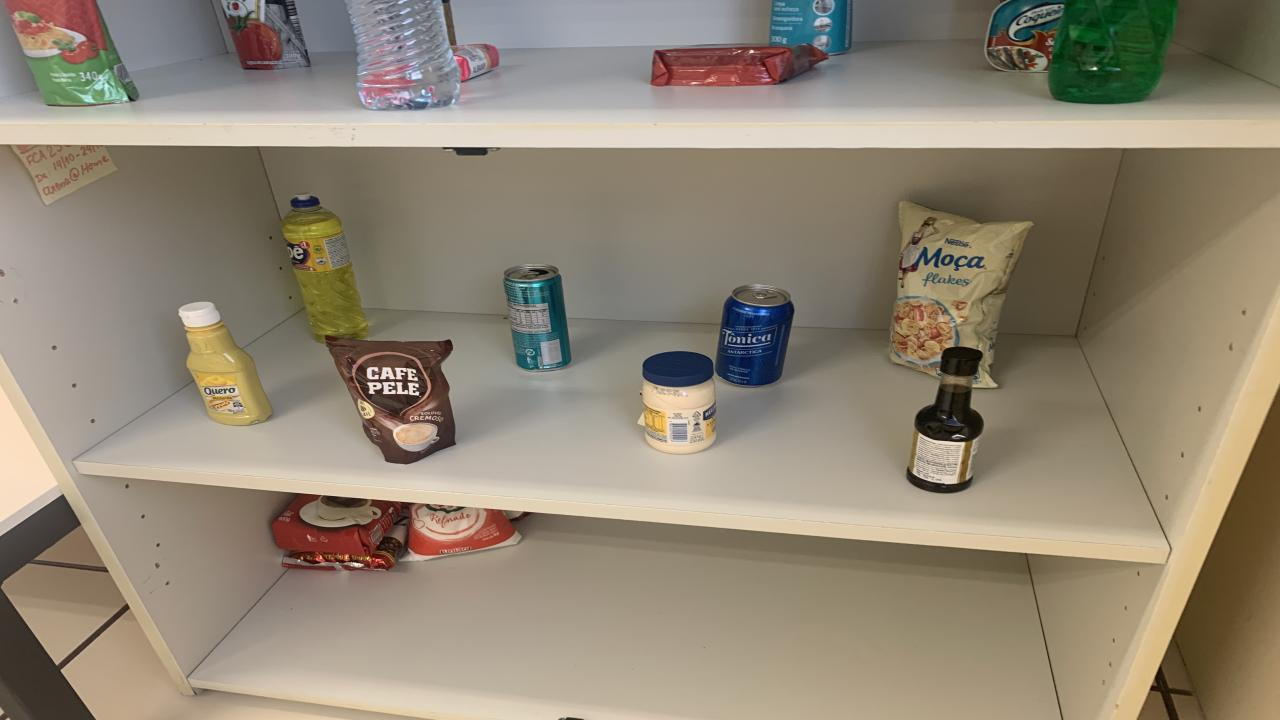Cleaner-Cleanup_Items: (770, 0, 852, 54)
Coffee-Pantry_Items: (325, 336, 455, 463)
Detergent-Cleanup_Items: (1048, 0, 1178, 103), (280, 193, 368, 343)
English_Sauce-Pantry_Items: (908, 347, 982, 493)
Flakes-Snacks: (890, 202, 1032, 388)
Guava-Snacks: (650, 45, 830, 86)
Mayonnaise-Pantry_Items: (640, 351, 715, 454)
Mustard-Pantry_Items: (180, 302, 272, 426)
Soap-Cleanup_Items: (450, 43, 500, 81)
Tea-Drinks: (502, 264, 570, 371)
Tomato_Sauce-Pantry_Items: (5, 0, 138, 107), (220, 0, 310, 69)
Tonic-Drinks: (715, 285, 795, 386)
Tuna_Can-Pantry_Items: (985, 0, 1065, 71)
Water_Bottle-Drinks: (348, 0, 460, 109)
